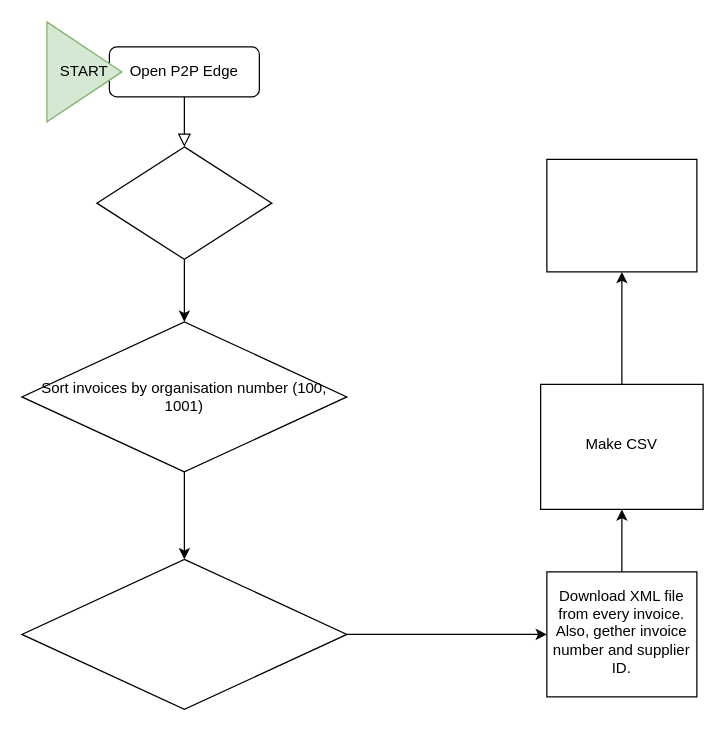
This 725x731 diagram has some shape labels left out. The centre of each missing label's shape, as x and y in pixels:
"Make an excel file and download it (include all invoices)" goes at pixel 184 633.
"Navigate to open invoice section" goes at pixel 184 202.
"Push the excel file, the XML file and the CSV file to the Azure Blob storage" goes at pixel 621 215.
